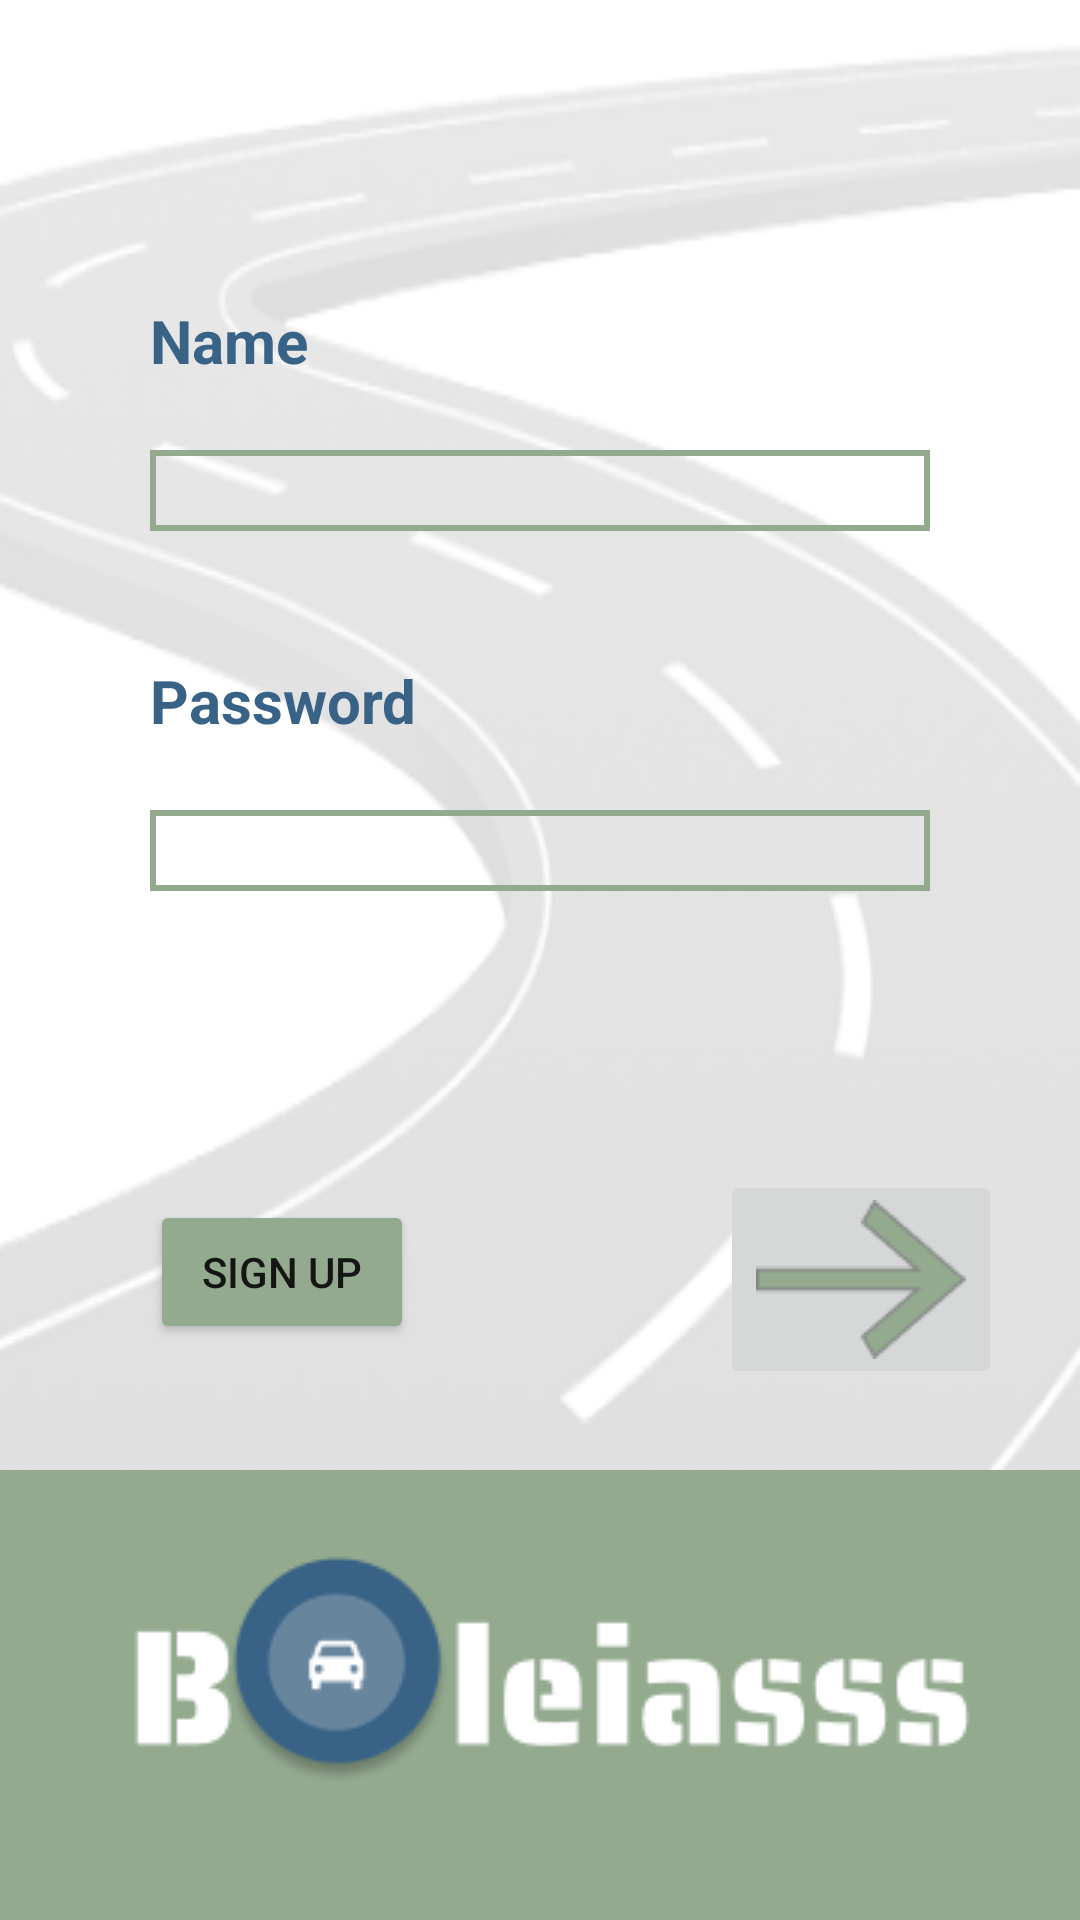

Named icons in this screenshot (1080px×1920px) and their centers, [x,y]:
seta: [855,1279]
